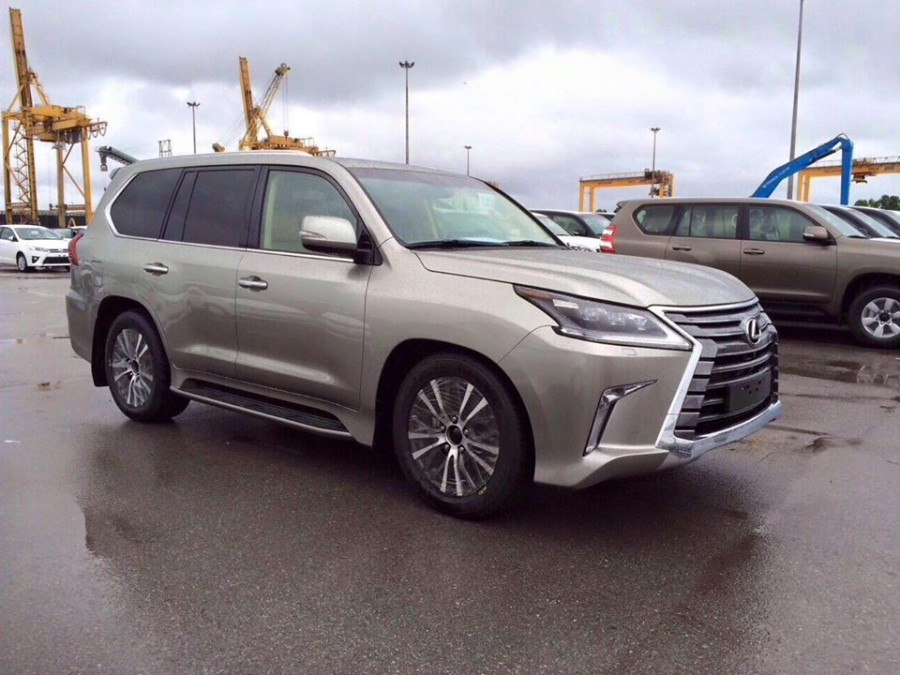pickup: (65, 146, 784, 519)
